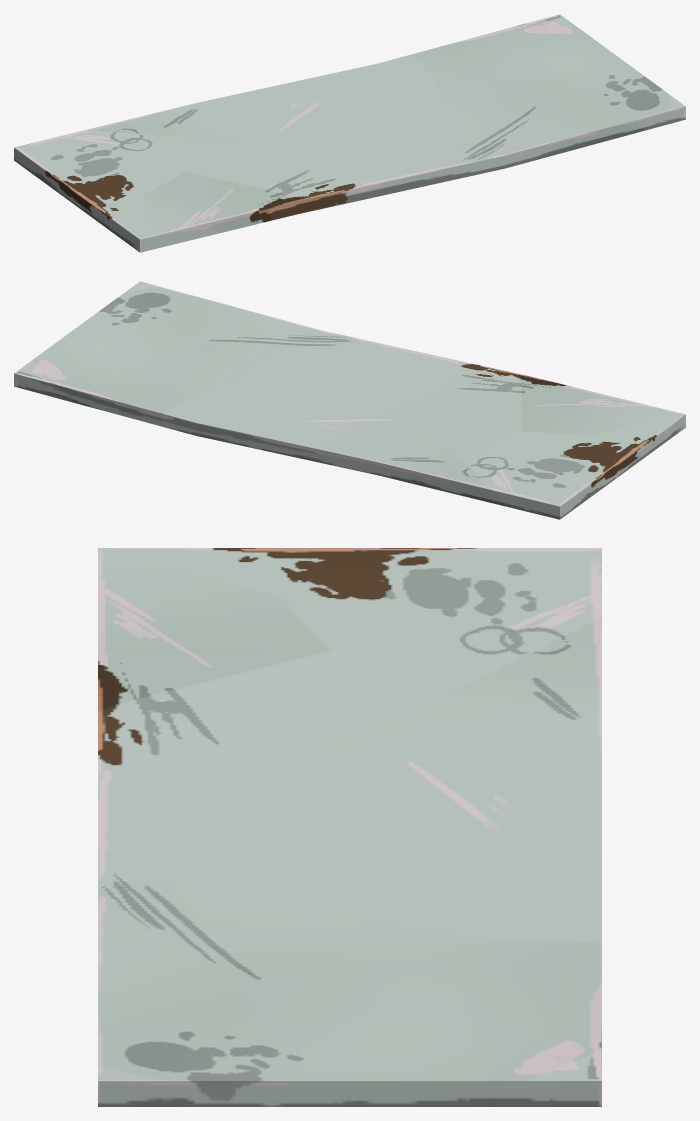
The model's file is Plank_1.glb.
The picture shows the model from 3 angles, top to bottom: view 1: azimuth 30°, elevation 25°; view 2: azimuth 150°, elevation 25°; view 3: azimuth 270°, elevation 25°; orthographic projection. The views are drawn at different scales.
Visible parts, largest first — view 1: Plank_1; view 2: Plank_1; view 3: Plank_1.
Boxes of the visible parts, bbox=[...] form: Plank_1: bbox=[14, 14, 685, 252]; Plank_1: bbox=[14, 281, 685, 519]; Plank_1: bbox=[98, 548, 601, 1106].
Bounding box in the file's own units: 2 × 0.063 × 0.8.
1 material, 1 textured.
